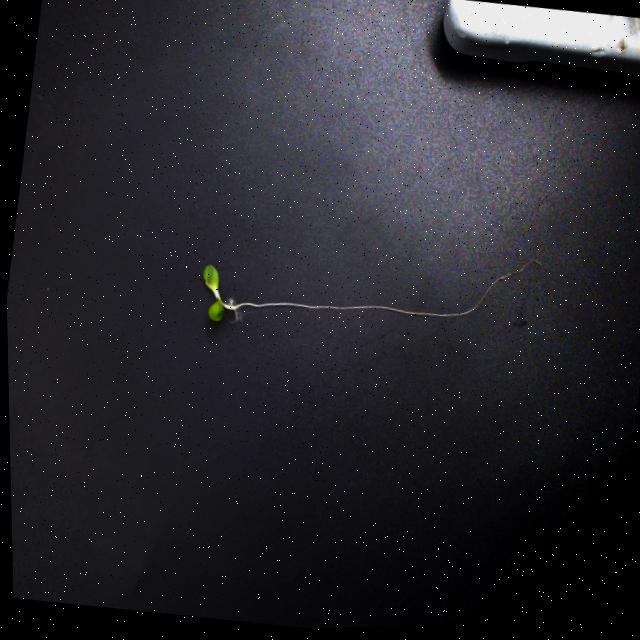leaf: (201, 260, 225, 325)
root: (238, 255, 540, 321)
steb: (222, 301, 240, 312)
